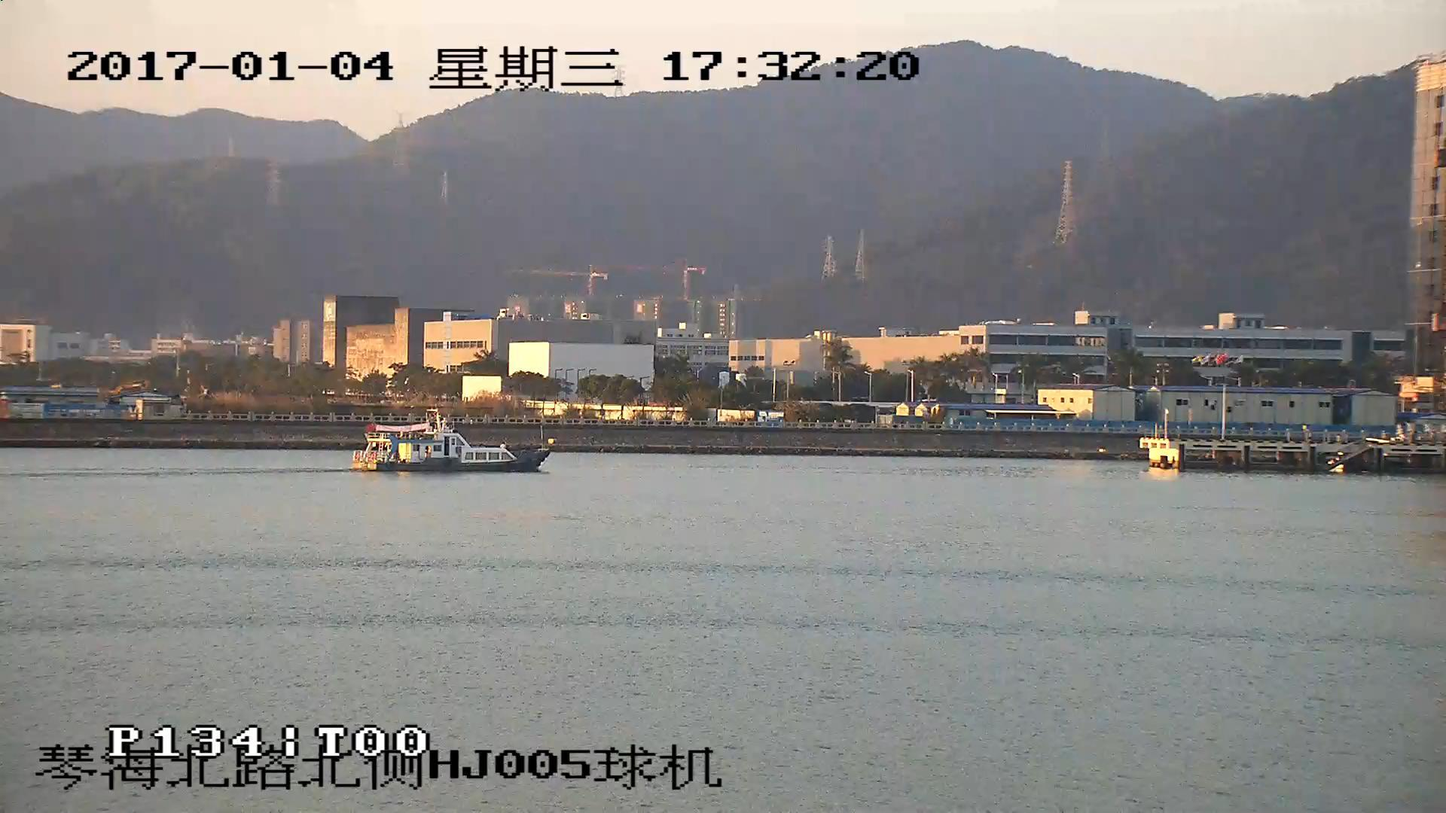fishing boat: (351, 413, 551, 475)
